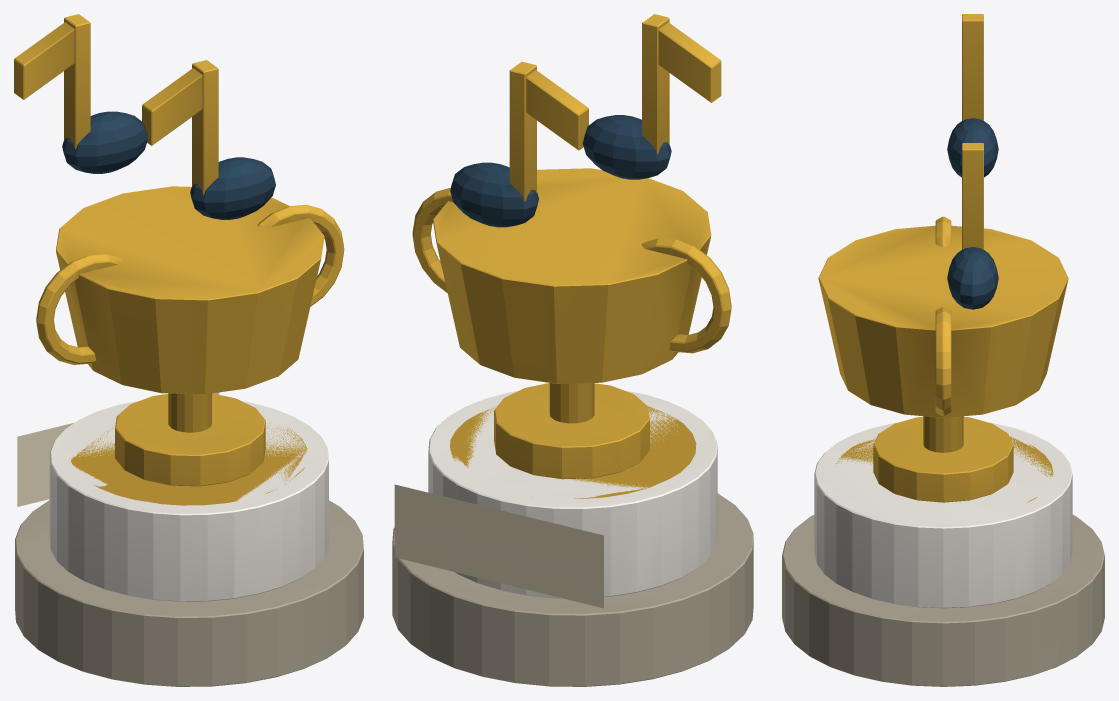
The model's file is trophy_beat.glb.
3 views of the same model, side by side, from view 1: azimuth 30°, elevation 25°; view 2: azimuth 150°, elevation 25°; view 3: azimuth 270°, elevation 25° (orthographic). The views are drawn at different scales.
Visible parts, largest first — view 1: symbol, common_pedestal, trophy_plate; view 2: symbol, common_pedestal, trophy_plate; view 3: common_pedestal, symbol.
Part boxes in pixels (x1,y1,x2,y2): symbol: (14,14,344,486); common_pedestal: (15,400,363,686); trophy_plate: (17,392,219,506); symbol: (412,14,731,479); common_pedestal: (392,390,753,686); trophy_plate: (394,484,603,608); common_pedestal: (782,422,1104,686); symbol: (818,14,1068,502).
Size of the model in its own units: 0.9188 by 1.72 by 0.9.
